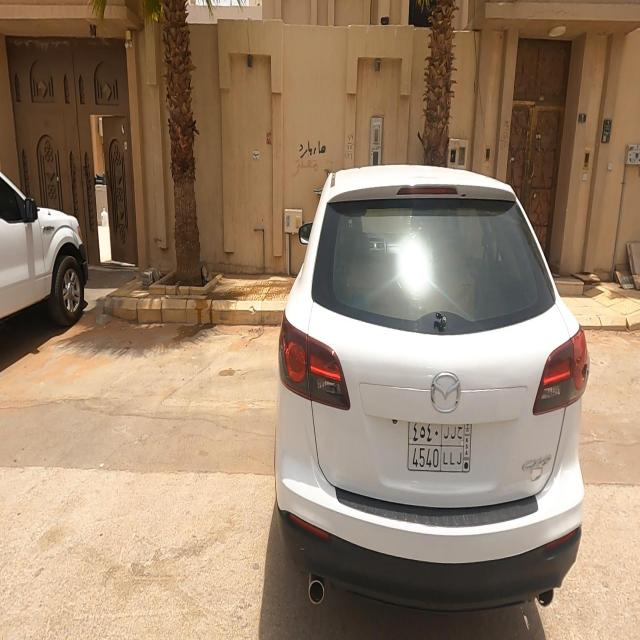Graffiti: (292, 136, 328, 182)
